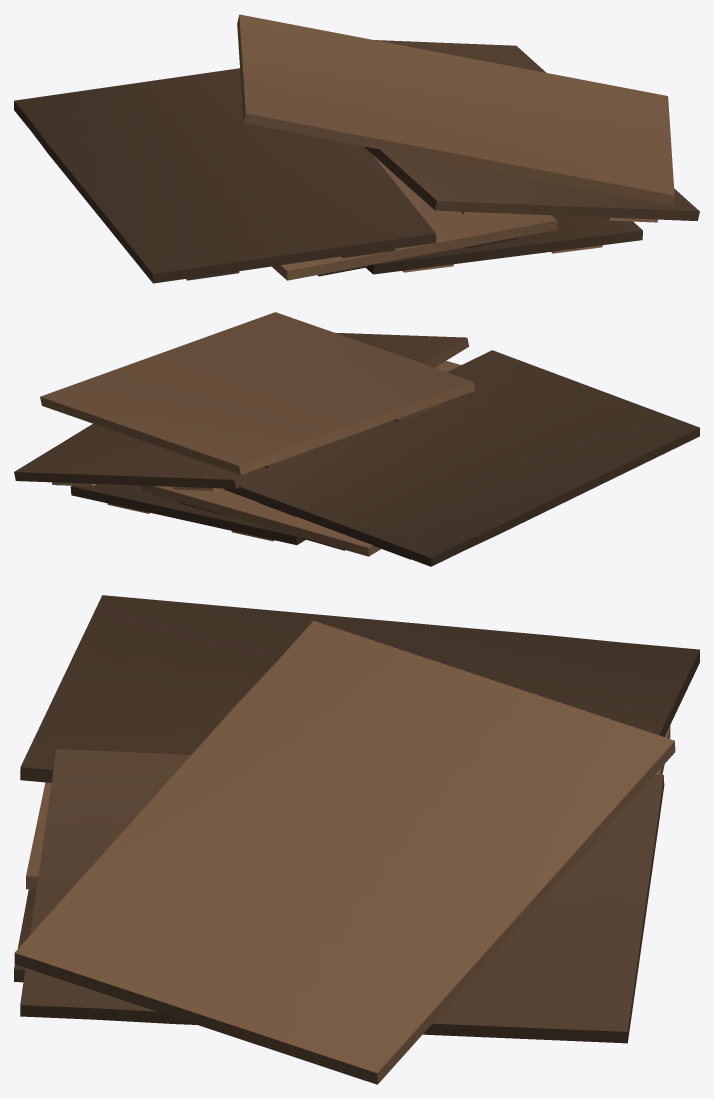
File: Multiple Small Messy Mid Crate Lids.fbx
3 renders of one model, top to bottom at view 1: azimuth 30°, elevation 25°; view 2: azimuth 150°, elevation 25°; view 3: azimuth 270°, elevation 25°, orthographic. The views are drawn at different scales.
Parts seen in each view (by area): view 1: Small Multiple Messy Mid Crate Lids; view 2: Small Multiple Messy Mid Crate Lids; view 3: Small Multiple Messy Mid Crate Lids.
Boxes of the visible parts, x1,y1,x2,y2 form: Small Multiple Messy Mid Crate Lids: (14,14,699,283); Small Multiple Messy Mid Crate Lids: (14,312,699,566); Small Multiple Messy Mid Crate Lids: (14,595,699,1084).
Size of the model in its own units: 64.12 by 229 by 330.
Materials: 1 (1 with a texture image).
